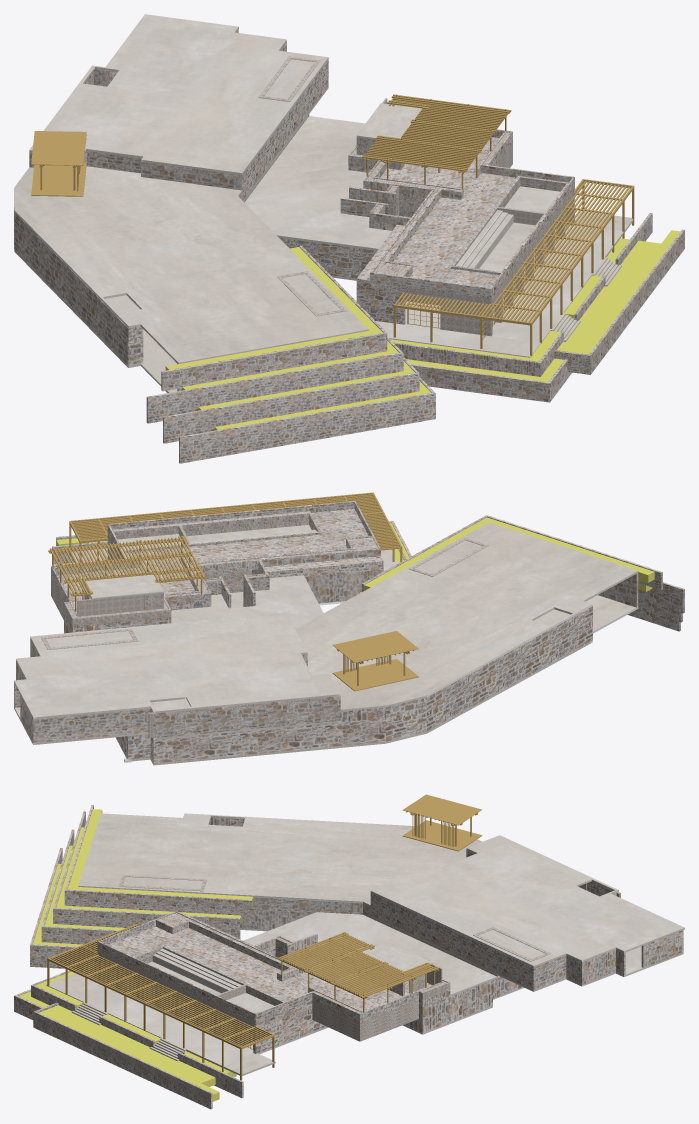
File: Amenities.glb
The picture shows the model from 3 angles, top to bottom: view 1: azimuth 30°, elevation 25°; view 2: azimuth 150°, elevation 25°; view 3: azimuth 270°, elevation 25°; orthographic projection. The views are drawn at different scales.
Parts seen in each view (by area): view 1: AM_Floor, AM_Walls, AM_Pergolas, AM_Landscape; view 2: AM_Floor, AM_Walls, AM_Pergolas, AM_Landscape; view 3: AM_Floor, AM_Walls, AM_Pergolas, AM_Landscape.
Part boxes in pixels (x1,y1,x2,y2): AM_Floor: (14, 14, 633, 392); AM_Walls: (14, 29, 684, 463); AM_Pergolas: (31, 94, 634, 356); AM_Landscape: (165, 230, 680, 430); AM_Floor: (14, 522, 638, 765); AM_Walls: (14, 501, 684, 763); AM_Pergolas: (48, 492, 418, 691); AM_Landscape: (56, 517, 654, 609); AM_Floor: (46, 813, 684, 1075); AM_Walls: (14, 805, 683, 1109); AM_Pergolas: (47, 794, 482, 1080); AM_Landscape: (18, 809, 252, 1101).
Size of the model in its own units: 74.55 by 14.55 by 84.17.
Materials: 4 (2 with a texture image).
